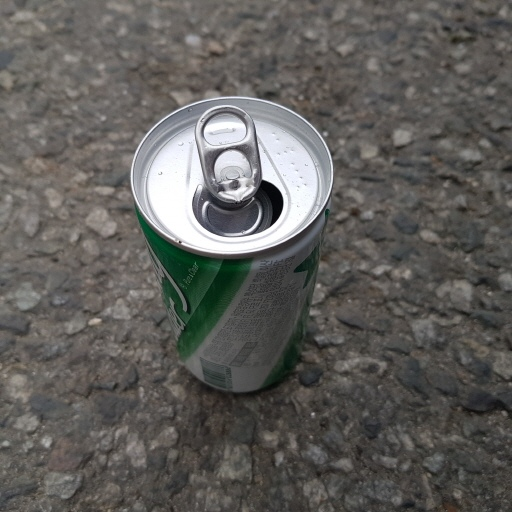Metal_0: (131, 95, 336, 400)
